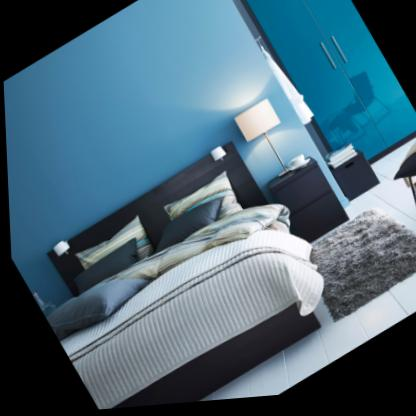Bed: (8, 127, 338, 416)
